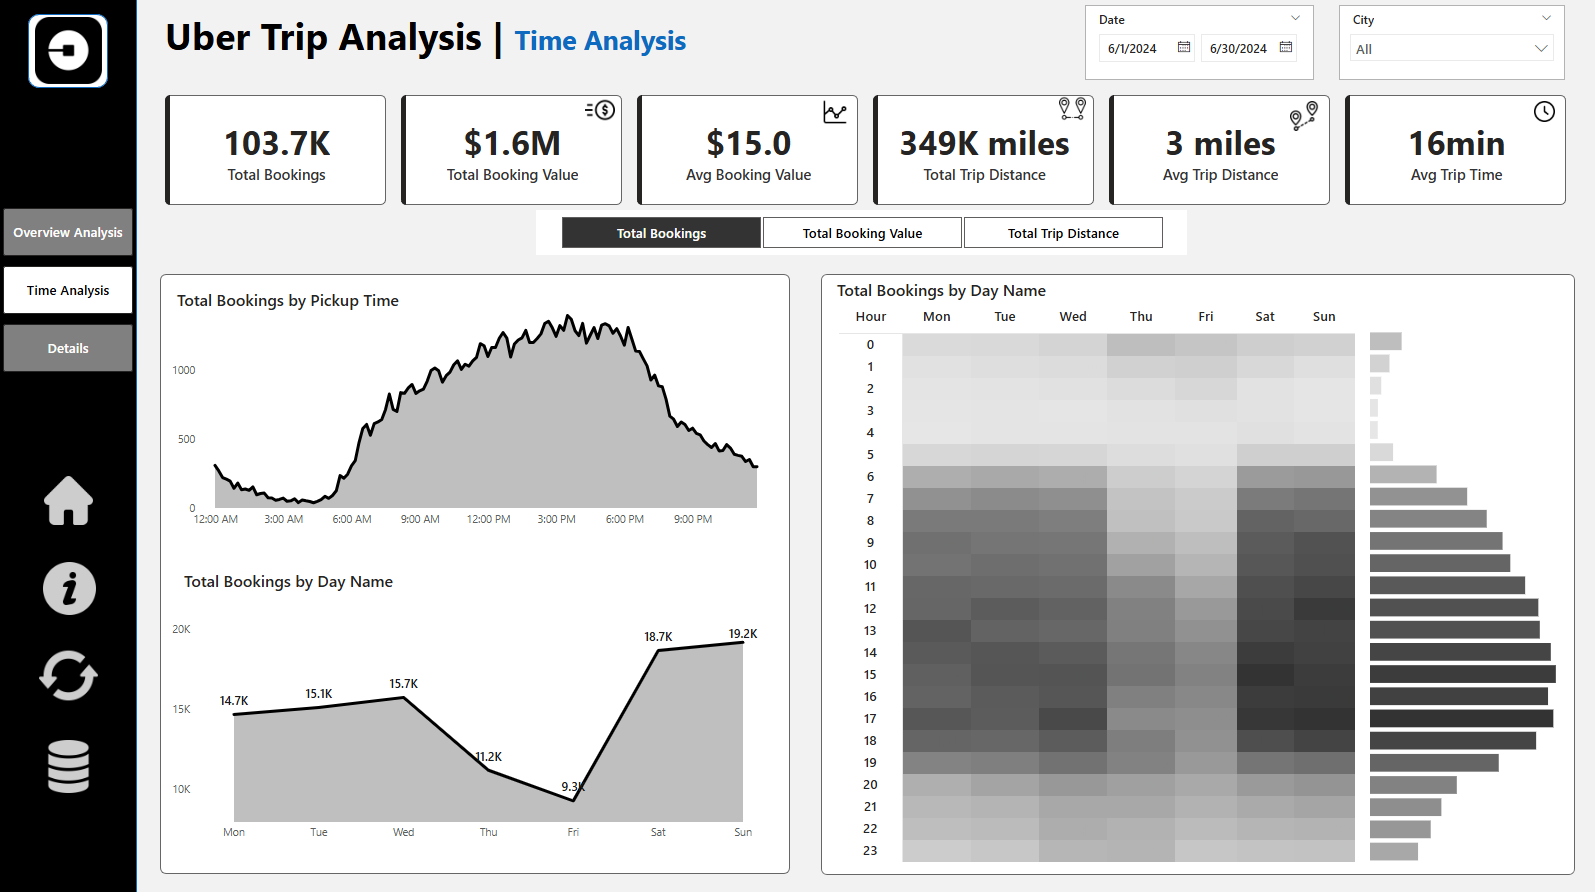

The page's visual inventory and layout, read from the dashboard file:
{"tool":"powerbi","page":{"name":"Time Analysis","canvas":[1600,900],"ordinal":1},"visuals":[{"type":"shape","box":[0,0,139.4,900],"z":0},{"type":"shape","box":[30,16.2,79.9,74.9],"z":0,"group":"g1"},{"type":"image","box":[31.3,14.7,77.4,77.4],"z":1000,"group":"g1"},{"type":"textbox","box":[161.8,7.9,774.2,64],"z":1000},{"type":"cardVisual","fields":{"Data":["Trip Details.Total Bookings","Trip Details.Total Booking Amount","Trip Details.Avg Booking Amount","Trip Details.Total Trip Distance","Trip Details.Avg Trip Distance","Trip Details.Avg Trip Time"]},"box":[162,93,1415,120],"z":2000},{"type":"image","box":[578.7,93.3,46.1,39.3],"z":3000},{"type":"image","box":[1280.9,98.9,51.7,40.4],"z":4000},{"type":"image","box":[988.8,93.3,170.8,37.1],"z":5000},{"type":"image","box":[1525.8,98.9,41.6,31.5],"z":6000},{"type":"image","box":[812.4,96.6,49.4,36],"z":7000},{"type":"shape","box":[162.3,276.7,630,600],"z":8000},{"type":"slicer","fields":{"Values":["Dynamic Measure.Dynamic Measure"]},"box":[538.4,212.6,650.3,45.3],"z":9000},{"type":"slicer","fields":{"Values":["Calendar Table.Date"]},"box":[1086.8,7.5,228.9,75.5],"z":10000},{"type":"slicer","fields":{"Values":["Location Table.City"]},"box":[1340.9,7.5,226.4,75.5],"z":11000},{"type":"areaChart","fields":{"Y":["Trip Details.Total Bookings"],"Category":["Trip Details.Pickup Hour (HH MM SS) (bins)"]},"box":[168.6,304.4,615.1,235.2],"z":12000},{"type":"cardVisual","fields":{"Data":["Trip Details.Title for by Pickup Time"]},"box":[162.3,266.7,314.5,57.9],"z":13000},{"type":"areaChart","fields":{"Y":["Trip Details.Total Bookings"],"Category":["Calendar Table.Day Name"]},"box":[168.6,617.6,615.1,235.2],"z":14000},{"type":"cardVisual","fields":{"Data":["Trip Details.Title for by Day Name"]},"box":[168.6,548.4,314.5,57.9],"z":15000},{"type":"shape","box":[822.6,276.7,754.7,601.3],"z":16000},{"type":"pivotTable","fields":{"Values":["Trip Details.Total Bookings"],"Rows":["Trip Details.Pickup Hour"],"Columns":["Calendar Table.Day Name"]},"box":[836.5,304.4,544.7,569.8],"z":17000},{"type":"barChart","fields":{"Y":["Trip Details.Total Bookings"],"Category":["Trip Details.Pickup Hour"]},"box":[1367.3,322,197.5,568.6],"z":18000},{"type":"cardVisual","fields":{"Data":["Trip Details.Title for by Day Name"]},"box":[822.5,257.1,314.5,57.4],"z":19000},{"type":"group","id":"g1","title":"Group 1","box":[30,14.7,79.9,77.4],"z":20000},{"type":"pageNavigator","box":[5,210.9,129.8,164.7],"z":21000},{"type":"image","box":[34.9,474.3,71.1,58.7],"z":22000},{"type":"image","box":[31.2,560.4,79.9,62.4],"z":23000},{"type":"image","box":[32.4,644,76.1,68.6],"z":24000},{"type":"image","box":[34.9,737.6,71.1,63.7],"z":25000}]}

Visuals, with their boxes on the page's 1600x900 design canvas (x1, y1, x2, y2). These are canvas units, not pixel positions in the 1595x892 screenshot, which may show the page scaled, cropped or inside an application window:
shape: {"x1": 0, "y1": 0, "x2": 139, "y2": 900}
shape: {"x1": 30, "y1": 16, "x2": 110, "y2": 91}
image: {"x1": 31, "y1": 15, "x2": 109, "y2": 92}
textbox: {"x1": 162, "y1": 8, "x2": 936, "y2": 72}
cardVisual - Trip Details.Total Bookings x Trip Details.Total Booking Amount: {"x1": 162, "y1": 93, "x2": 1577, "y2": 213}
image: {"x1": 579, "y1": 93, "x2": 625, "y2": 133}
image: {"x1": 1281, "y1": 99, "x2": 1333, "y2": 139}
image: {"x1": 989, "y1": 93, "x2": 1160, "y2": 130}
image: {"x1": 1526, "y1": 99, "x2": 1567, "y2": 130}
image: {"x1": 812, "y1": 97, "x2": 862, "y2": 133}
shape: {"x1": 162, "y1": 277, "x2": 792, "y2": 877}
slicer - Dynamic Measure.Dynamic Measure: {"x1": 538, "y1": 213, "x2": 1189, "y2": 258}
slicer - Calendar Table.Date: {"x1": 1087, "y1": 8, "x2": 1316, "y2": 83}
slicer - Location Table.City: {"x1": 1341, "y1": 8, "x2": 1567, "y2": 83}
areaChart - Trip Details.Total Bookings x Trip Details.Pickup Hour (HH MM SS) (bins): {"x1": 169, "y1": 304, "x2": 784, "y2": 540}
cardVisual - Trip Details.Title for by Pickup Time: {"x1": 162, "y1": 267, "x2": 477, "y2": 325}
areaChart - Trip Details.Total Bookings x Calendar Table.Day Name: {"x1": 169, "y1": 618, "x2": 784, "y2": 853}
cardVisual - Trip Details.Title for by Day Name: {"x1": 169, "y1": 548, "x2": 483, "y2": 606}
shape: {"x1": 823, "y1": 277, "x2": 1577, "y2": 878}
pivotTable - Trip Details.Total Bookings x Trip Details.Pickup Hour: {"x1": 836, "y1": 304, "x2": 1381, "y2": 874}
barChart - Trip Details.Total Bookings x Trip Details.Pickup Hour: {"x1": 1367, "y1": 322, "x2": 1565, "y2": 891}
cardVisual - Trip Details.Title for by Day Name: {"x1": 822, "y1": 257, "x2": 1137, "y2": 314}
"Group 1" group: {"x1": 30, "y1": 15, "x2": 110, "y2": 92}
pageNavigator: {"x1": 5, "y1": 211, "x2": 135, "y2": 376}
image: {"x1": 35, "y1": 474, "x2": 106, "y2": 533}
image: {"x1": 31, "y1": 560, "x2": 111, "y2": 623}
image: {"x1": 32, "y1": 644, "x2": 108, "y2": 713}
image: {"x1": 35, "y1": 738, "x2": 106, "y2": 801}
